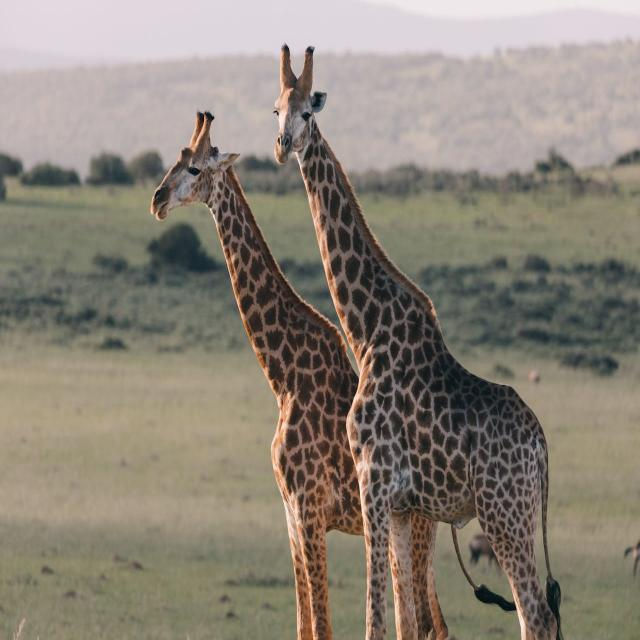Giraffe: (273, 42, 567, 640), (152, 113, 452, 640)
